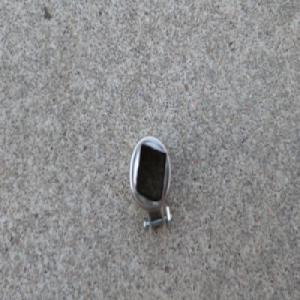MetalPart: (127, 133, 172, 242)
